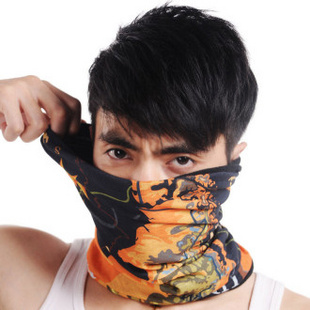face_mask: (88, 82, 226, 245)
